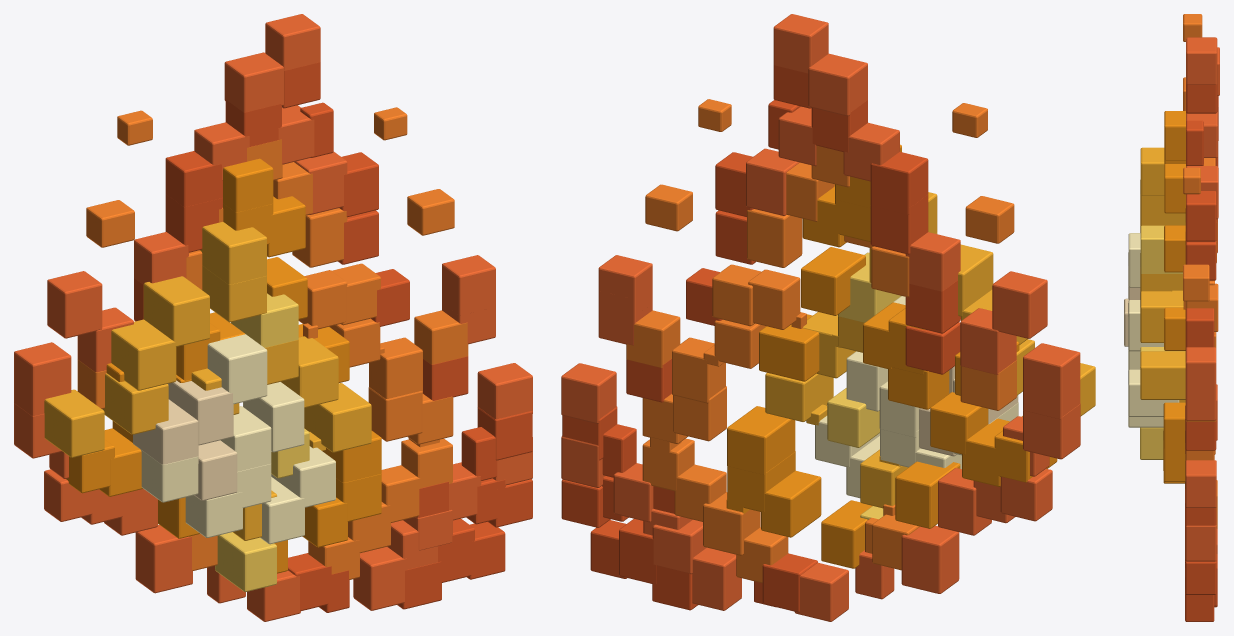
File: SM_Blender_Ember.glb
The picture shows the model from 3 angles, left to right: view 1: azimuth 30°, elevation 25°; view 2: azimuth 150°, elevation 25°; view 3: azimuth 270°, elevation 25°; orthographic projection. The views are drawn at different scales.
Parts seen in each view (by area): view 1: SM_Blender_Ember; view 2: SM_Blender_Ember; view 3: SM_Blender_Ember.
Boxes of the visible parts, x1,y1,x2,y2 form: SM_Blender_Ember: (14, 14, 532, 621); SM_Blender_Ember: (561, 14, 1095, 621); SM_Blender_Ember: (1124, 14, 1219, 621).
Size of the model in its own units: 1.24 by 1.42 by 0.2441.
1 material, 1 textured.
